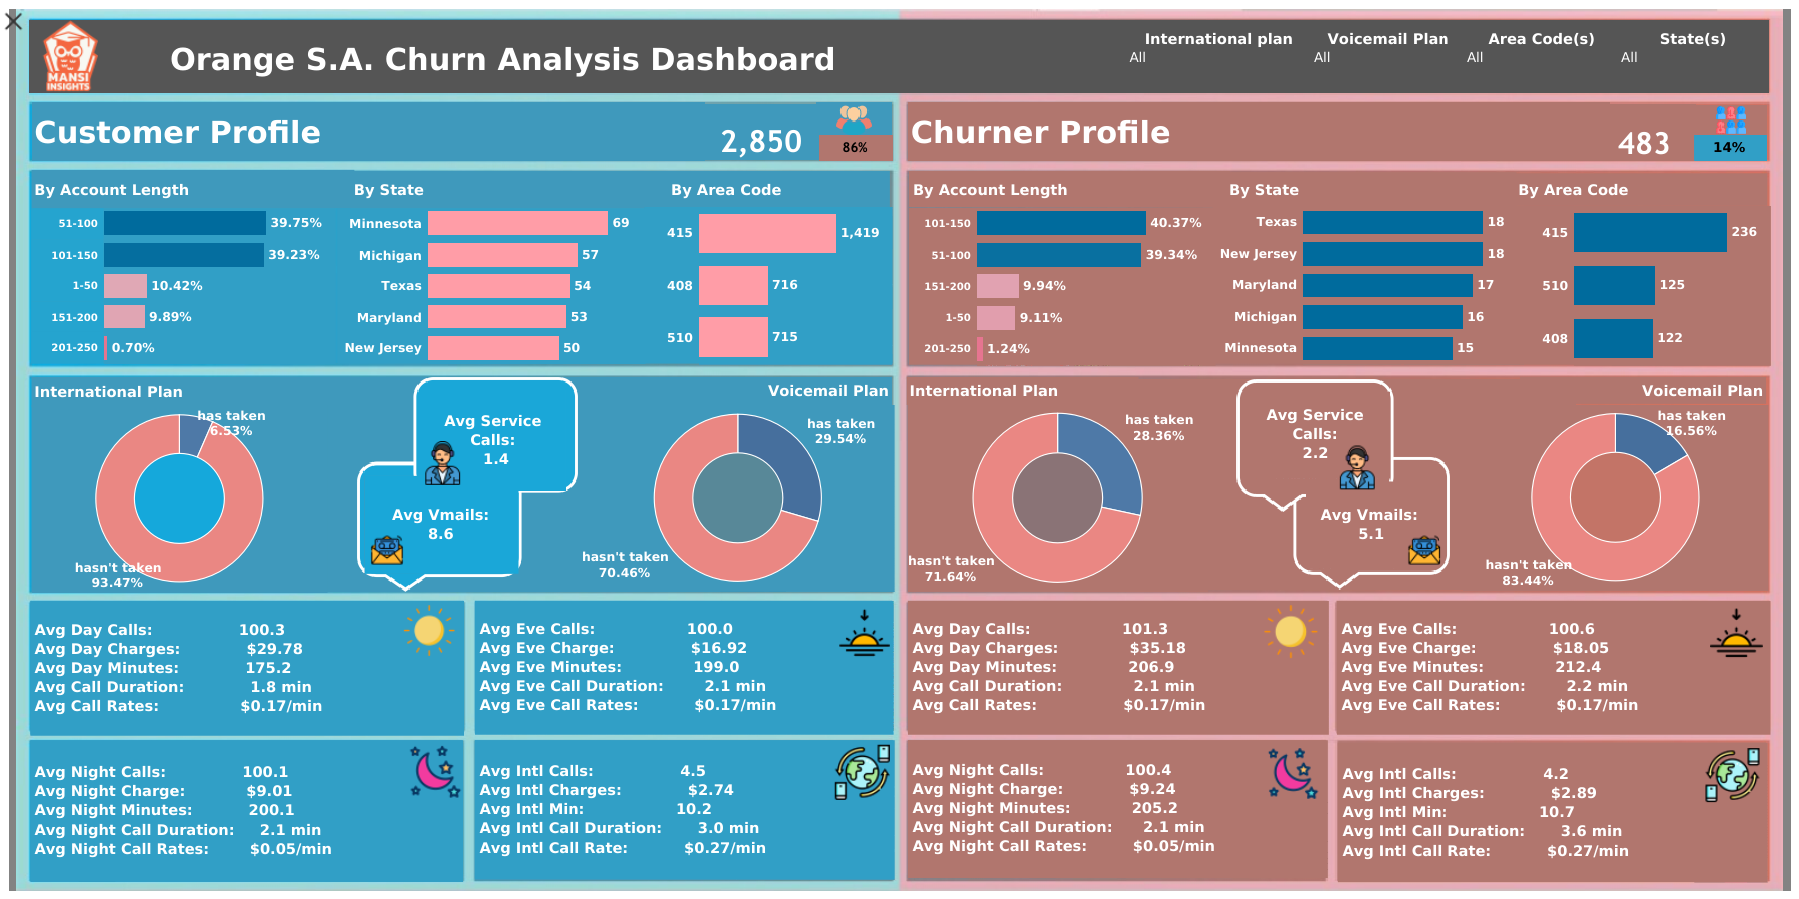

Layout of this report page (visuals, bound fields, positions):
{"tool":"tableau","page":{"name":"Churn Analysis Dashboard","canvas":[1600,800],"ordinal":0},"visuals":[{"type":"dashboard-object","box":[0,7.5,23.6,22.6]},{"type":"image","param":"Image/Bg_1_1604x800.jpg","box":[8,8,1584,784]},{"type":"text","box":[26,18,1546,65]},{"type":"image","param":"Image/Mansi_transparent1.png","box":[27,18,71,63]},{"type":"worksheet","title":"Filter","mark":"Automatic","box":[1025,20,75,57]},{"type":"filter","title":"Filter","param":"[federated.01mdonx08g045n19tpaye0qnbzyg].[none:Area code:ok]","box":[1297,26,137,56]},{"type":"filter","title":"Filter","param":"[federated.01mdonx08g045n19tpaye0qnbzyg].[none:State name:nk]","box":[1435,27,135,54]},{"type":"text","box":[28,91,599,52]},{"type":"image","param":"Image/group.png","box":[725,91,68,32]},{"type":"text","box":[807,91,624,52]},{"type":"worksheet","title":"2","mark":"Automatic","box":[626,92,103,49]},{"type":"worksheet","title":"1","mark":"Automatic","box":[1418,92,89,50]},{"type":"image","param":"Image/churn-rate.png","box":[1506,93,65,27]},{"type":"worksheet","title":"4","mark":"Text","box":[728,120,65,22]},{"type":"worksheet","title":"3","mark":"Text","box":[1506,120,64,22]},{"type":"text","box":[28,151,287,34]},{"type":"text","box":[312,152,283,33]},{"type":"text","box":[594,152,197,32]},{"type":"text","box":[808,152,285,32]},{"type":"text","box":[1090,153,258,31]},{"type":"text","box":[1347,154,224,29]},{"type":"worksheet","title":"5","mark":"Automatic","rows":["State name"],"cols":["Calculation_523824994702721028"],"box":[1078,183,275,140]},{"type":"worksheet","title":"25","mark":"Automatic","rows":["Area code"],"cols":["Telecom Churn.csv_1C5C91676DBB44A4992B3C7448A7334F"],"box":[1351,183,222,141]},{"type":"worksheet","title":"6","mark":"Automatic","rows":["State name"],"cols":["Calculation_523824994703163397"],"box":[299,184,276,141]},{"type":"worksheet","title":"26","mark":"Automatic","rows":["Area code"],"cols":["Telecom Churn.csv_1C5C91676DBB44A4992B3C7448A7334F"],"box":[573,184,219,139]},{"type":"worksheet","title":"8","mark":"Automatic","rows":["Calculation_523824994715332615"],"box":[28,185,269,138]},{"type":"worksheet","title":"7","mark":"Automatic","rows":["Calculation_523824994715332615"],"box":[808,185,271,139]},{"type":"text","box":[28,335,337,27]},{"type":"image","param":"Image/Picture5.png","box":[151,335,529,191]},{"type":"text","box":[515,335,278,25]},{"type":"text","box":[806,335,206,25]},{"type":"text","box":[1351,335,219,24]},{"type":"image","param":"Image/Picturerghn.png","box":[988,337,413,187]},{"type":"worksheet","title":"24","mark":"Text","box":[376,347,126,89]},{"type":"worksheet","title":"23","mark":"Automatic","box":[1105,348,130,76]},{"type":"worksheet","title":"10","mark":"Pie","rows":["Calculation_1315895579974017031","Calculation_1315895579974053897"],"box":[28,360,262,166]},{"type":"worksheet","title":"12","mark":"Pie","rows":["Calculation_1315895579974451215","Calculation_1315895579974479889"],"box":[517,360,277,165]},{"type":"worksheet","title":"9","mark":"Pie","rows":["Calculation_1315895579973402627","Calculation_1315895579973455877"],"box":[807,360,266,165]},{"type":"worksheet","title":"11","mark":"Pie","rows":["Calculation_1315895579974266891","Calculation_1315895579974295565"],"box":[1300,360,271,164]},{"type":"image","param":"Image/customer-care.png","box":[374,381,39,61]},{"type":"image","param":"Image/customer-care.png","box":[1186,396,41,39]},{"type":"worksheet","title":"14","mark":"Text","box":[324,423,136,86]},{"type":"worksheet","title":"13","mark":"Text","box":[1161,428,113,76]},{"type":"image","param":"Image/voicemail.png","box":[329,474,30,30]},{"type":"image","param":"Image/voicemail.png","box":[1251,474,30,33]},{"type":"worksheet","title":"16","mark":"Text","box":[27,534,385,119]},{"type":"worksheet","title":"18","mark":"Text","box":[422,534,371,118]},{"type":"worksheet","title":"15","mark":"Text","box":[807,534,373,118]},{"type":"worksheet","title":"17","mark":"Text","box":[1188,534,385,118]},{"type":"image","param":"Image/sun.png","box":[352,537.8,60.3,45.5]},{"type":"image","param":"Image/sun.png","box":[1117.5,537.8,59.1,46.8]},{"type":"image","param":"Image/sunset.png","box":[1510.2,539.1,67.7,46.8]},{"type":"image","param":"Image/sunset.png","box":[734.8,540.3,67.7,44.3]},{"type":"worksheet","title":"20","mark":"Text","box":[27,658,384,125]},{"type":"worksheet","title":"22","mark":"Text","box":[422,658,372,123]},{"type":"worksheet","title":"19","mark":"Text","box":[807,658,372,122]},{"type":"worksheet","title":"21","mark":"Text","box":[1189,660,381,123]},{"type":"image","param":"Image/global-communication.png","box":[737.2,662.2,59.1,49.2]},{"type":"image","param":"Image/night.png","box":[358.2,663.4,59.1,45.5]},{"type":"image","param":"Image/night.png","box":[1121.2,664.6,57.8,45.5]},{"type":"image","param":"Image/global-communication.png","box":[1510.2,664.6,60.3,48]}]}

Visuals, with their boxes in screenshot pixels (x1, y1, x2, y2), scaled from the page's 1600x800 canvas onto the 1799x899 screenshot:
dashboard-object: l=0, t=8, r=27, b=34
image: l=9, t=9, r=1790, b=890
text: l=29, t=20, r=1768, b=93
image: l=30, t=20, r=110, b=91
"Filter" worksheet: l=1152, t=22, r=1237, b=87
"Filter" filter: l=1458, t=29, r=1612, b=92
"Filter" filter: l=1613, t=30, r=1765, b=91
text: l=31, t=102, r=705, b=161
image: l=815, t=102, r=892, b=138
text: l=907, t=102, r=1609, b=161
"2" worksheet: l=704, t=103, r=820, b=158
"1" worksheet: l=1594, t=103, r=1694, b=160
image: l=1693, t=105, r=1766, b=135
"4" worksheet (Text marks): l=819, t=135, r=892, b=160
"3" worksheet (Text marks): l=1693, t=135, r=1765, b=160
text: l=31, t=170, r=354, b=208
text: l=351, t=171, r=669, b=208
text: l=668, t=171, r=889, b=207
text: l=908, t=171, r=1229, b=207
text: l=1226, t=172, r=1516, b=207
text: l=1515, t=173, r=1766, b=206
"5" worksheet: l=1212, t=206, r=1521, b=363
"25" worksheet: l=1519, t=206, r=1769, b=364
"6" worksheet: l=336, t=207, r=647, b=365
"26" worksheet: l=644, t=207, r=891, b=363
"8" worksheet: l=31, t=208, r=334, b=363
"7" worksheet: l=908, t=208, r=1213, b=364
text: l=31, t=376, r=410, b=407
image: l=170, t=376, r=765, b=591
text: l=579, t=376, r=892, b=405
text: l=906, t=376, r=1138, b=405
text: l=1519, t=376, r=1765, b=403
image: l=1111, t=379, r=1575, b=589
"24" worksheet (Text marks): l=423, t=390, r=564, b=490
"23" worksheet: l=1242, t=391, r=1389, b=476
"10" worksheet (Pie marks): l=31, t=405, r=326, b=591
"12" worksheet (Pie marks): l=581, t=405, r=893, b=590
"9" worksheet (Pie marks): l=907, t=405, r=1206, b=590
"11" worksheet (Pie marks): l=1462, t=405, r=1766, b=589
image: l=421, t=428, r=464, b=497
image: l=1334, t=445, r=1380, b=489
"14" worksheet (Text marks): l=364, t=475, r=517, b=572
"13" worksheet (Text marks): l=1305, t=481, r=1432, b=566
image: l=370, t=533, r=404, b=566
image: l=1407, t=533, r=1440, b=570
"16" worksheet (Text marks): l=30, t=600, r=463, b=734
"18" worksheet (Text marks): l=474, t=600, r=892, b=733
"15" worksheet (Text marks): l=907, t=600, r=1327, b=733
"17" worksheet (Text marks): l=1336, t=600, r=1769, b=733
image: l=396, t=604, r=464, b=655
image: l=1256, t=604, r=1323, b=657
image: l=1698, t=606, r=1774, b=658
image: l=826, t=607, r=902, b=657
"20" worksheet (Text marks): l=30, t=739, r=462, b=880
"22" worksheet (Text marks): l=474, t=739, r=893, b=878
"19" worksheet (Text marks): l=907, t=739, r=1326, b=877
"21" worksheet (Text marks): l=1337, t=742, r=1765, b=880
image: l=829, t=744, r=895, b=799
image: l=403, t=745, r=469, b=797
image: l=1261, t=747, r=1326, b=798
image: l=1698, t=747, r=1766, b=801
